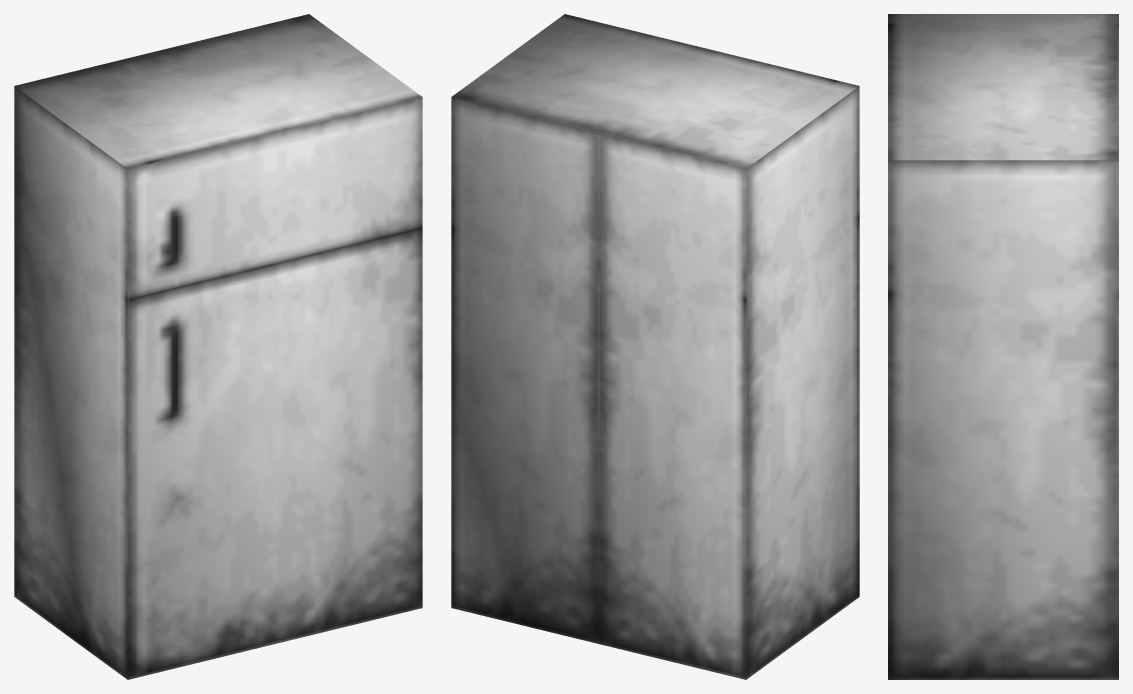
The model's file is fridge48x32.obj.
The picture shows the model from 3 angles, left to right: view 1: azimuth 30°, elevation 25°; view 2: azimuth 150°, elevation 25°; view 3: azimuth 270°, elevation 25°; orthographic projection.
Visible parts, largest first — view 1: fridge; view 2: fridge; view 3: fridge.
Part boxes in pixels (<box>): fridge: <box>14,14,422,679</box>; fridge: <box>451,14,859,679</box>; fridge: <box>888,14,1118,679</box>.
Size of the model in its own units: 48 by 79.5 by 32.
